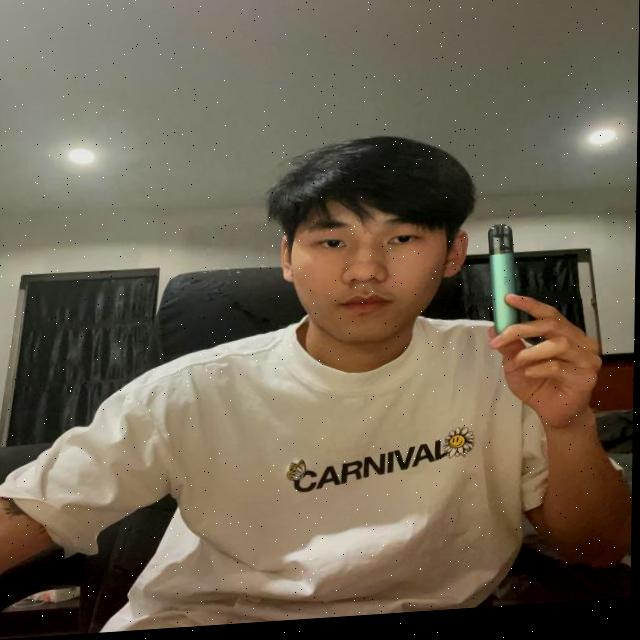vape: (487, 230, 522, 343)
